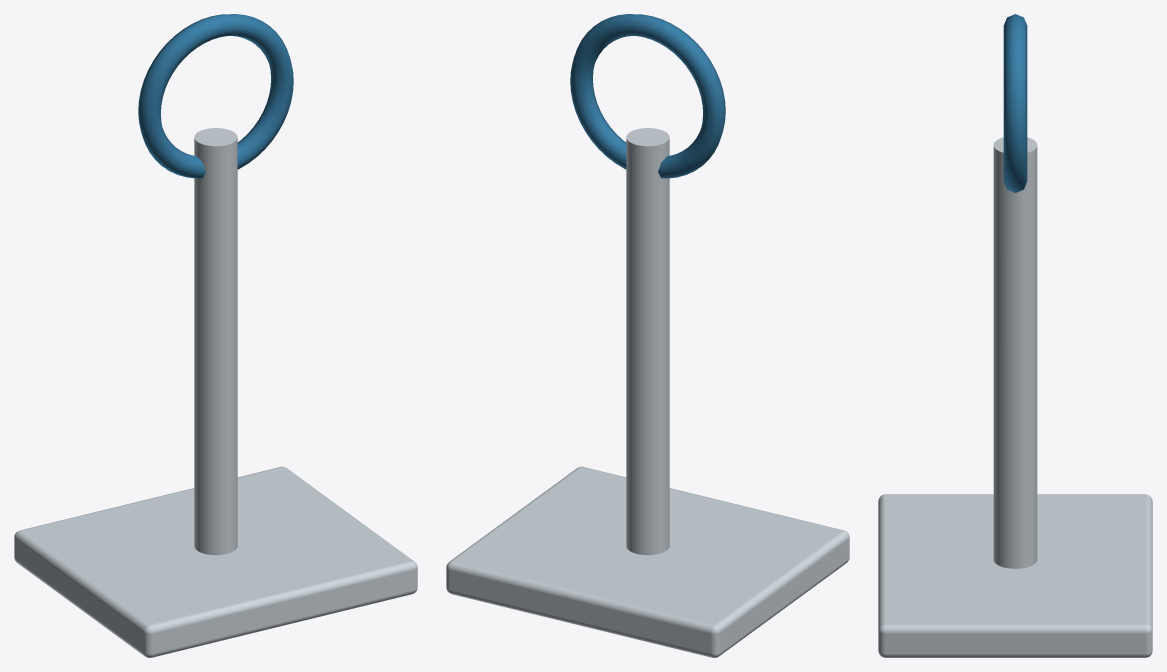
The model's file is curling-club-and-ice-maintenance-hose-guide-stand-617fa146__31301.glb.
The picture shows the model from 3 angles, left to right: view 1: azimuth 30°, elevation 25°; view 2: azimuth 150°, elevation 25°; view 3: azimuth 270°, elevation 25°; orthographic projection.
Parts seen in each view (by area): view 1: hose-guide-stand; view 2: hose-guide-stand; view 3: hose-guide-stand.
Boxes of the visible parts, <box> form: hose-guide-stand: <box>14,14,417,657</box>; hose-guide-stand: <box>446,14,849,657</box>; hose-guide-stand: <box>878,14,1152,657</box>.
Size of the model in its own units: 0.35 by 0.688 by 0.3.
